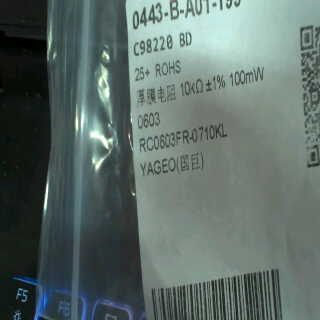10kR: (178, 78, 207, 99)
